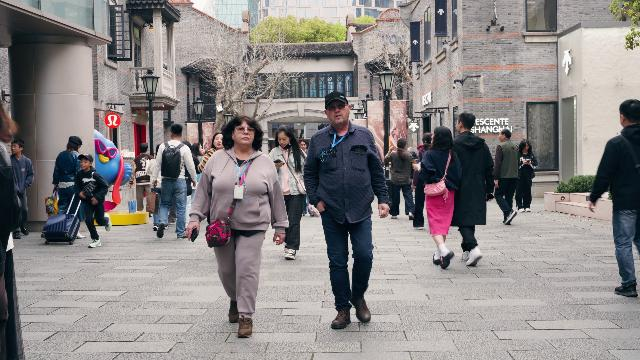person: (191, 111, 283, 358), (303, 92, 390, 330), (588, 99, 640, 298), (413, 126, 463, 269), (451, 111, 496, 266), (151, 124, 197, 240), (269, 124, 307, 260), (74, 154, 112, 248), (52, 136, 85, 239), (6, 139, 34, 239), (494, 127, 522, 225), (384, 138, 417, 220), (412, 132, 433, 230), (513, 139, 538, 212), (129, 143, 155, 212)
